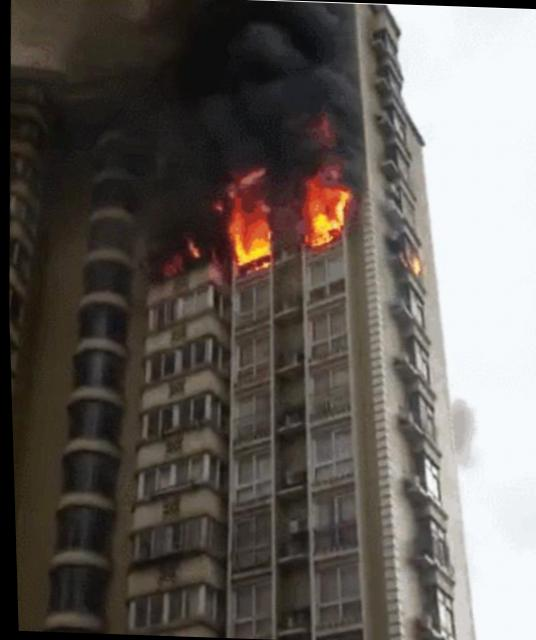fire: (299, 157, 350, 252), (223, 180, 272, 270), (408, 244, 427, 280)
